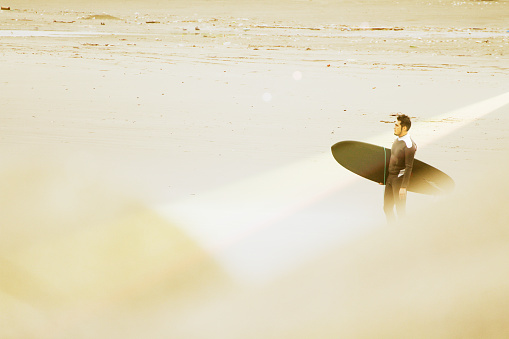em pe: (378, 103, 420, 208)
